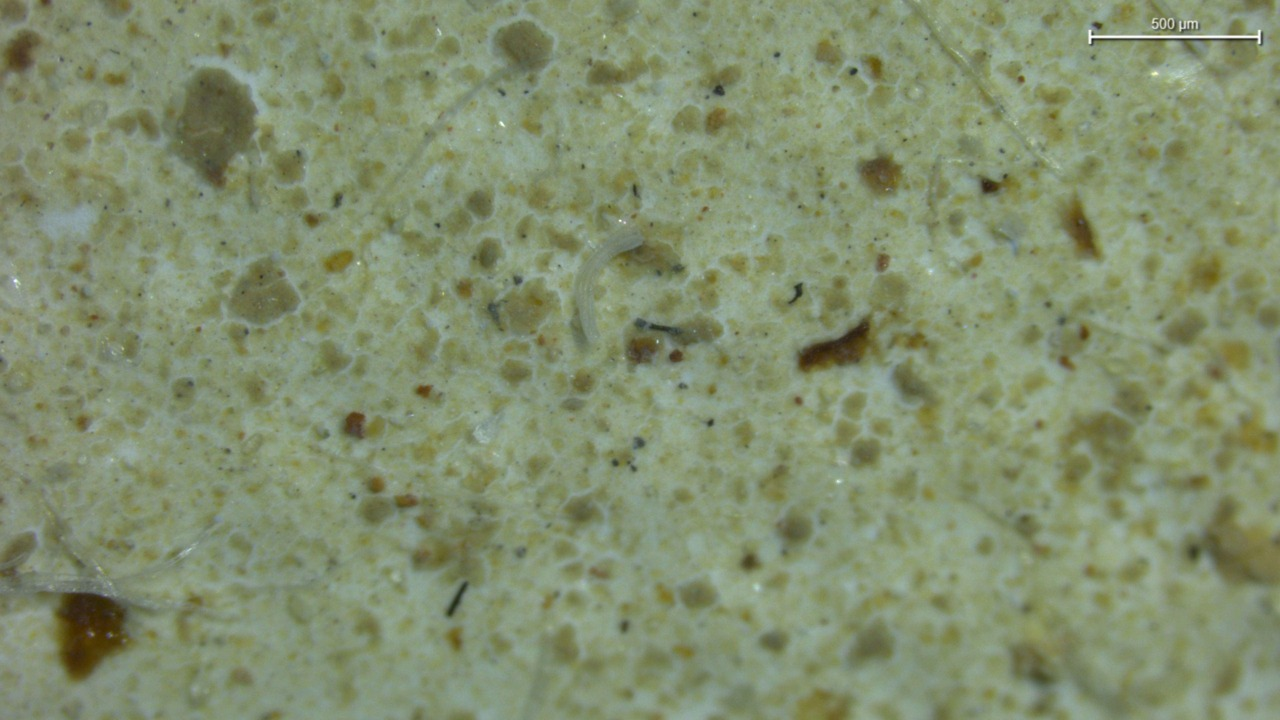microplastic_fragment: (574, 226, 644, 343)
